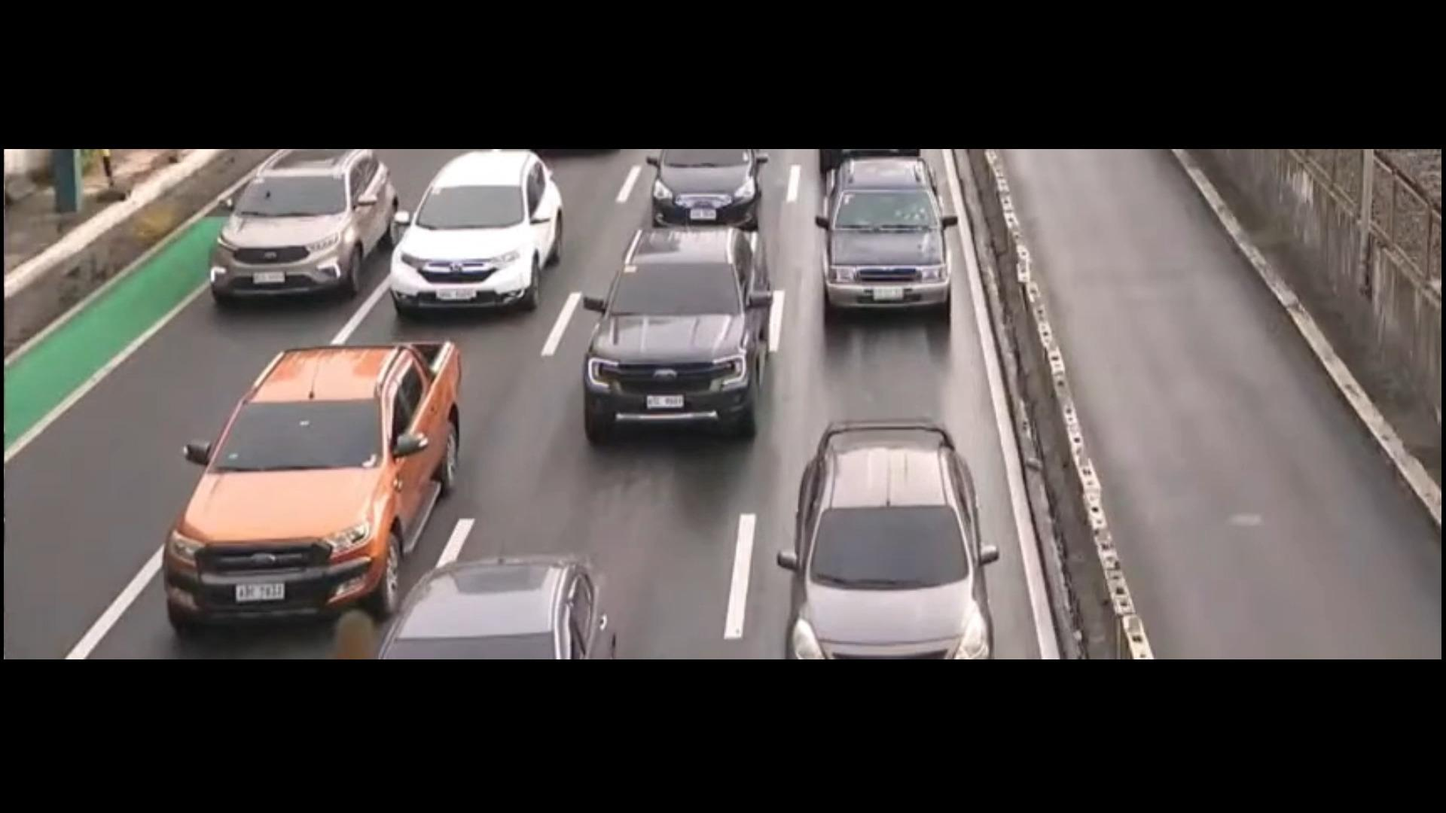SUV: (171, 339, 461, 634), (570, 226, 776, 440), (205, 147, 392, 299), (390, 154, 563, 314), (819, 160, 958, 314)
Sedan: (783, 427, 987, 659), (371, 551, 610, 659), (637, 148, 774, 226)
